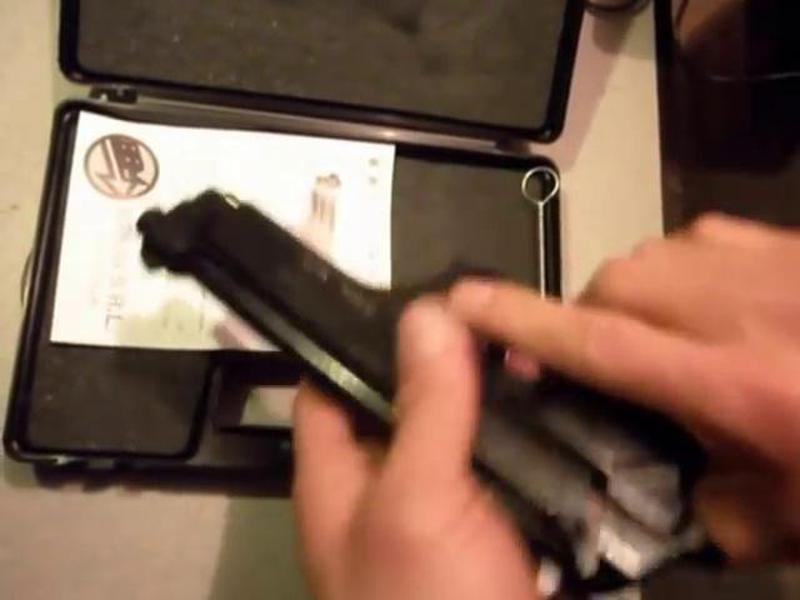Pistola: (130, 166, 734, 573)
